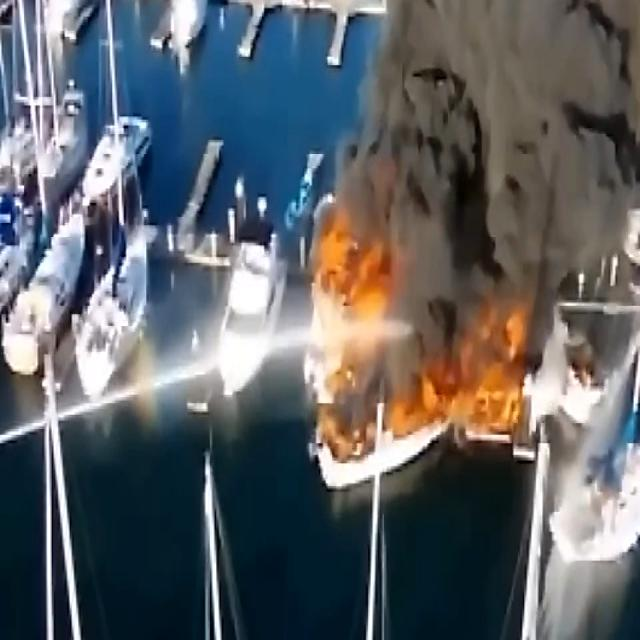fire: (317, 220, 389, 309), (457, 348, 510, 434)
smoke: (390, 0, 583, 171)
